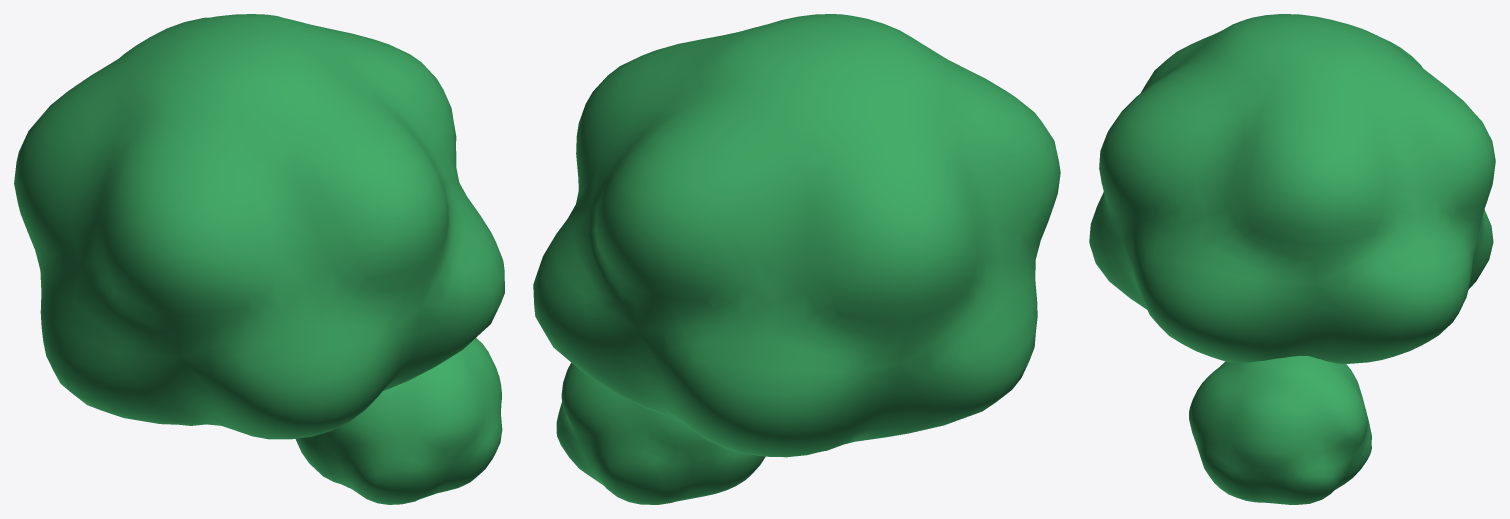
Rendered from Tree_Top_D_02.fbx.
The picture shows the model from 3 angles, left to right: view 1: azimuth 30°, elevation 25°; view 2: azimuth 150°, elevation 25°; view 3: azimuth 270°, elevation 25°; orthographic projection. The views are drawn at different scales.
Parts seen in each view (by area): view 1: Tree_Top_D_02_LOD0; view 2: Tree_Top_D_02_LOD0; view 3: Tree_Top_D_02_LOD0.
Part boxes in pixels (x1,y1,x2,y2): Tree_Top_D_02_LOD0: (14,14,504,504); Tree_Top_D_02_LOD0: (533,14,1060,504); Tree_Top_D_02_LOD0: (1089,14,1495,504).
Size of what is drawn, in the model's own units: 689 by 733 by 679.
